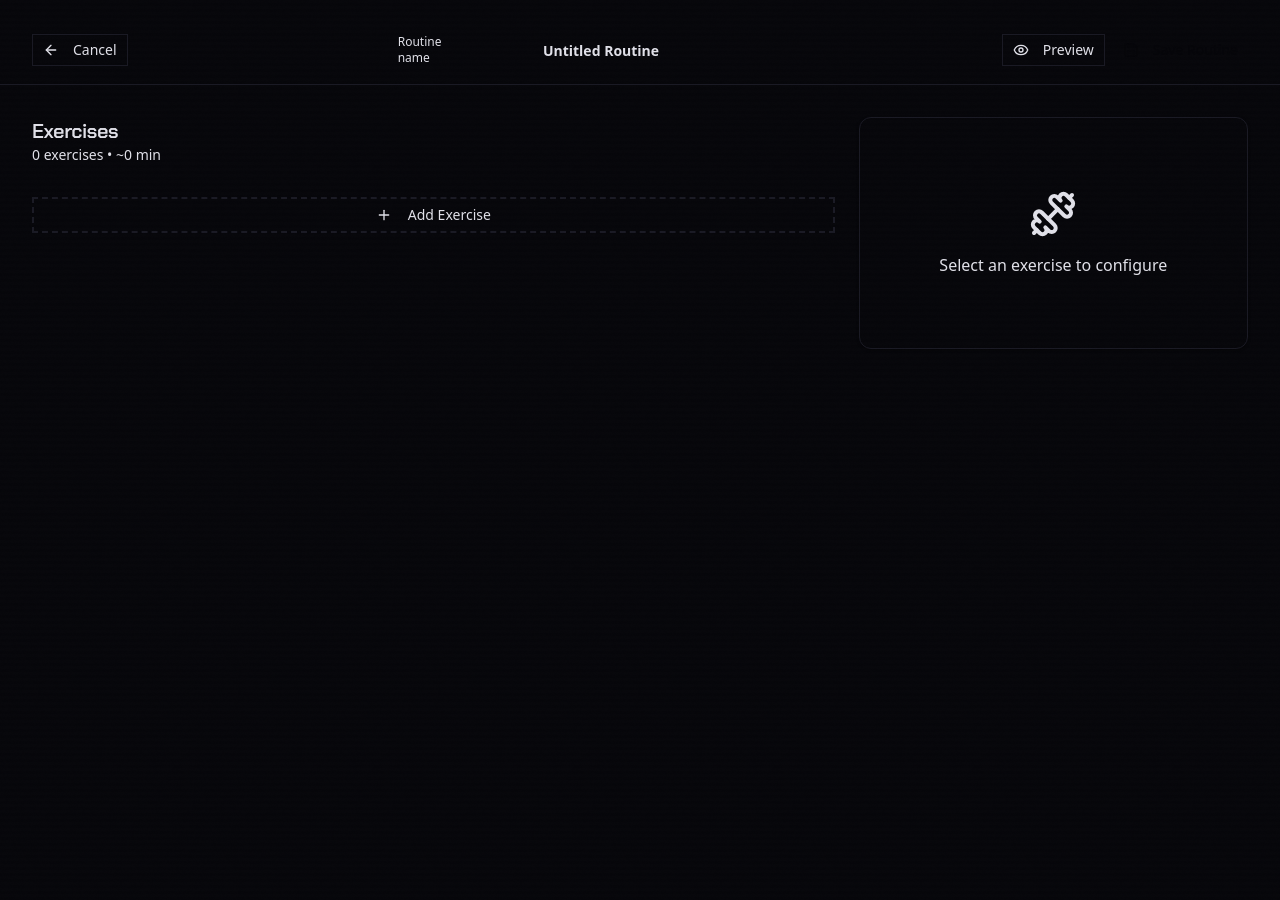
Test: RoutineBuilder › shows unsaved changes dialog when Cancel is clicked with changes
Make a change
In the field showing "Untitled Routine": x=601, y=50 [470,32,732,68], type "x"
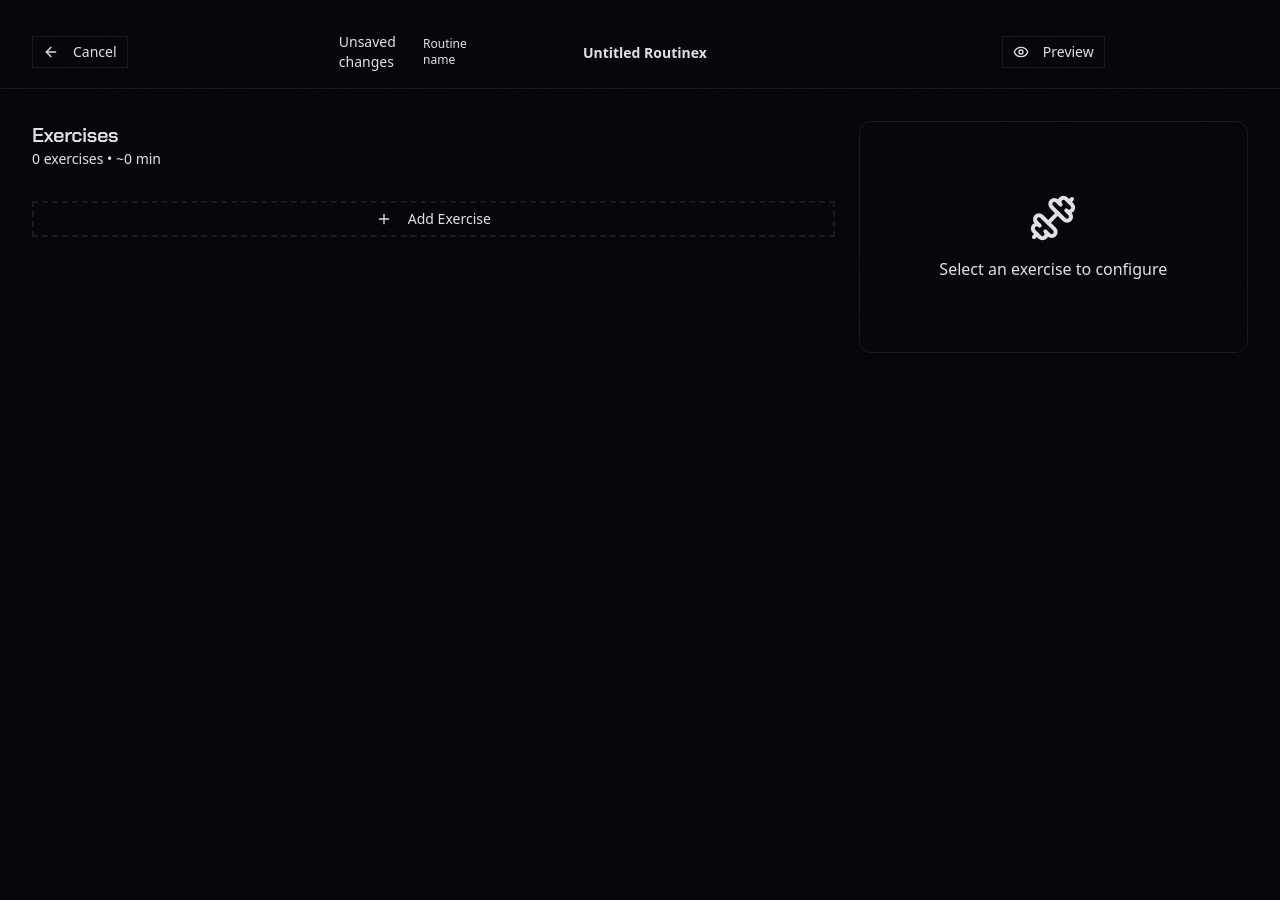
Click cancel
Click the button "Cancel": x=80, y=52 [32,36,128,68]
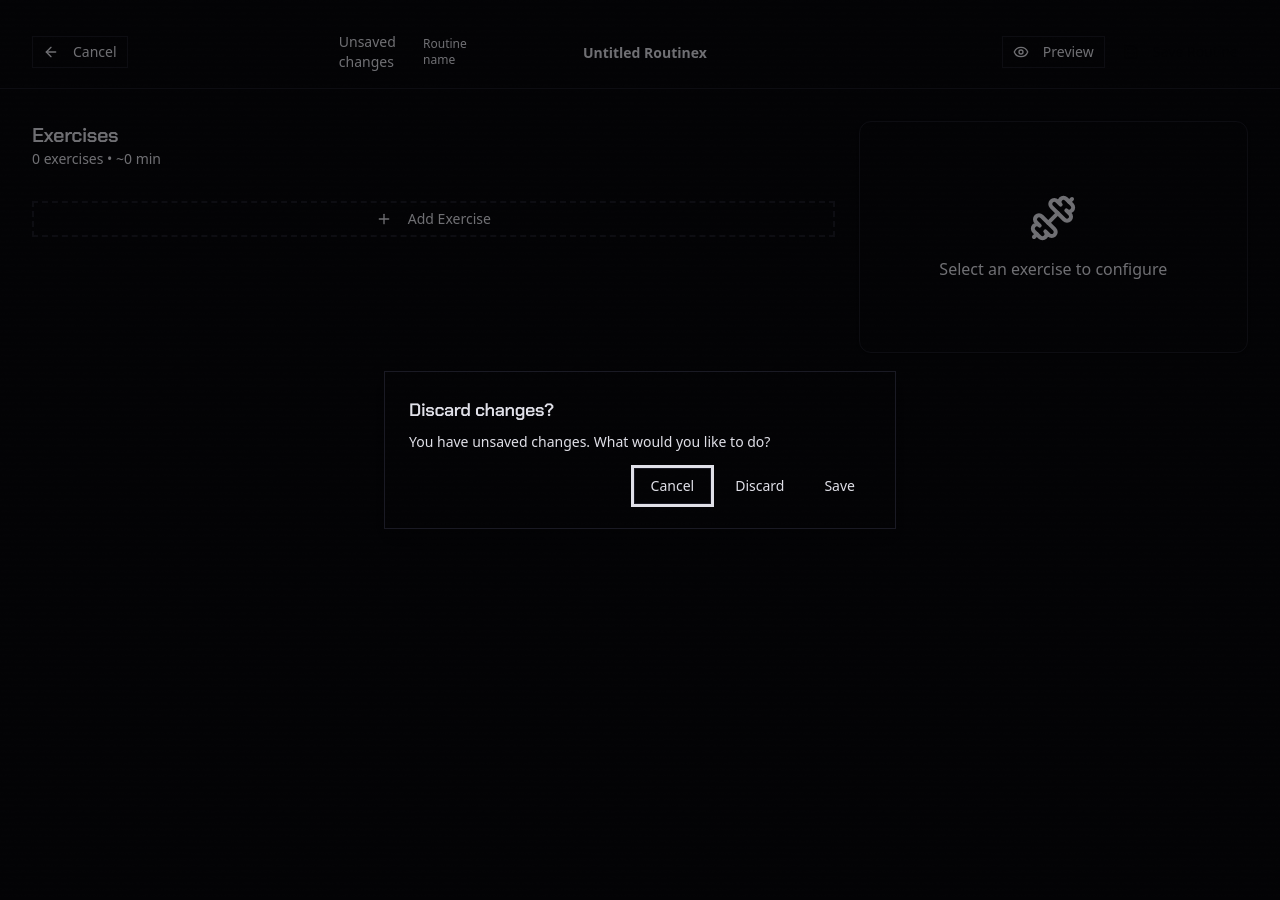
expect the heading "Discard changes?" is shown: met, box [409,398,554,422]
